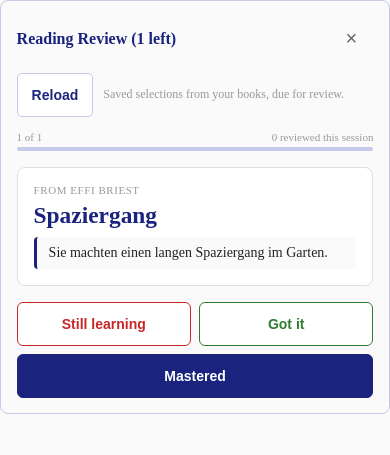
Scenario: ReadingReviewPage › shows error message when the review POST fails
Click the button with test id "reading-review-got-it".
click(286, 324)  # box [199,302,373,346]
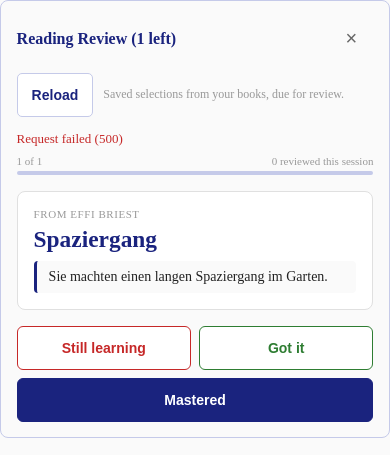
Now the text "Request failed (500)" is shown, box [17,131,123,146]
